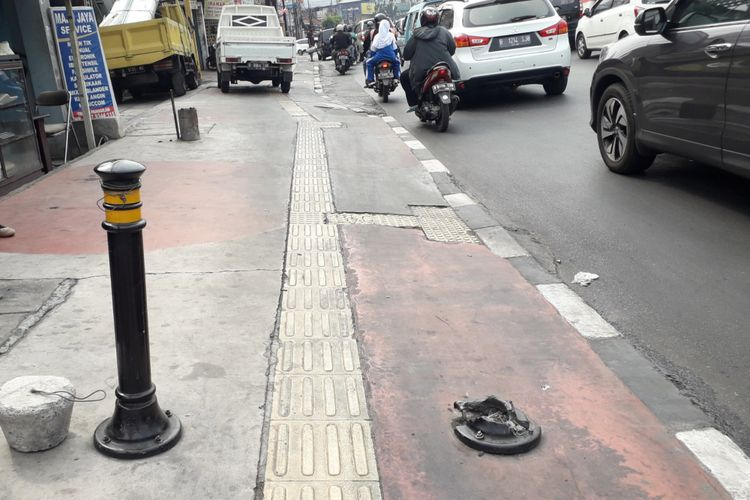bollard: (89, 159, 186, 463), (178, 108, 202, 145)
